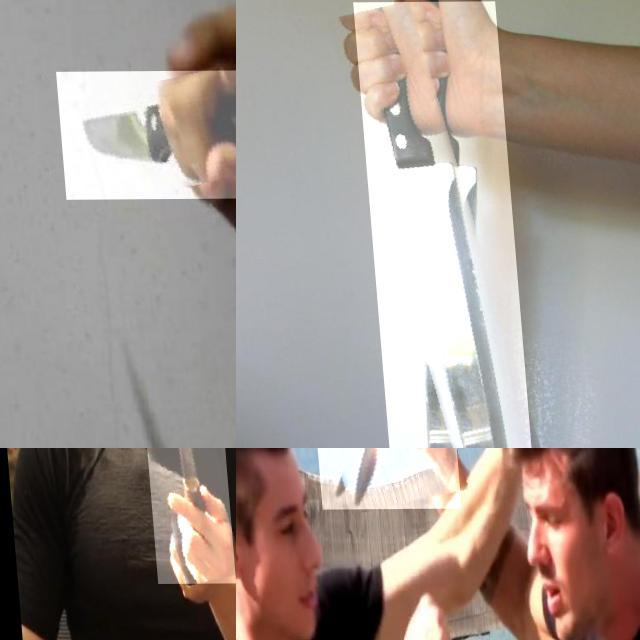-: (351, 1, 529, 448), (52, 70, 236, 200), (306, 448, 458, 546), (137, 448, 227, 584)
